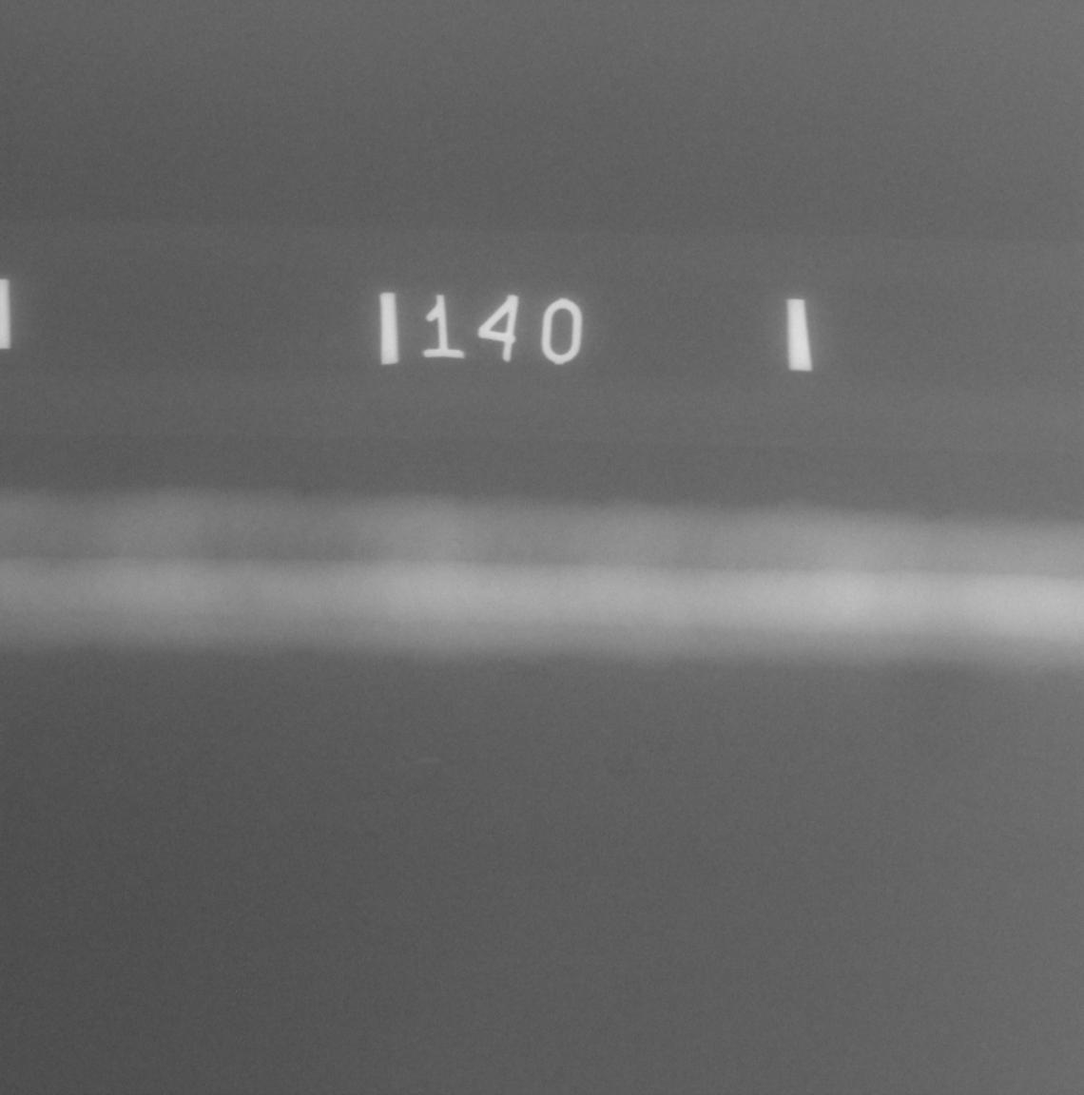Inclusion: (451, 537, 464, 545)
